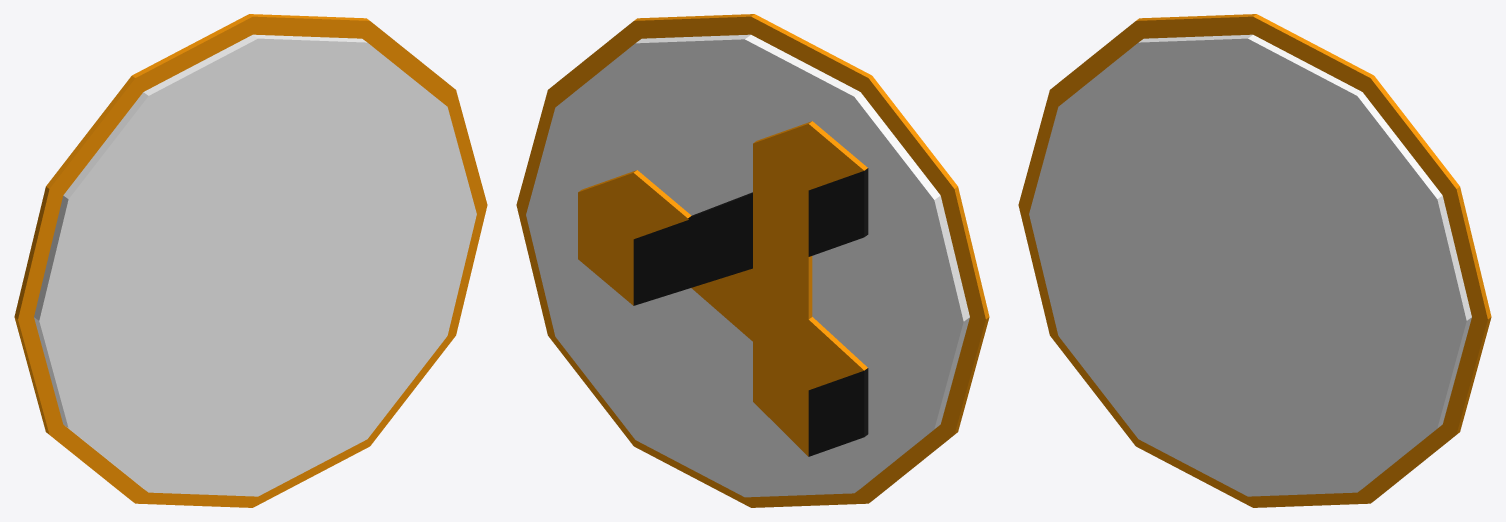
The model's file is ZEN.obj.
3 renders of one model, left to right at view 1: azimuth 30°, elevation 25°; view 2: azimuth 150°, elevation 25°; view 3: azimuth 330°, elevation 25°, orthographic.
Parts seen in each view (by area): view 1: group538133939, group270610225; view 2: group538133939, group270610225, group777321811, group1636007801, group1485929939, group965874814, group2086023532, group1651240096, group18262353, group1922530786, group1186561598; view 3: group538133939, group270610225.
Part boxes in pixels (x1,y1,x2,y2): group538133939: (34, 34, 476, 496); group270610225: (14, 14, 487, 507); group538133939: (526, 34, 969, 497); group270610225: (516, 14, 989, 507); group777321811: (633, 192, 752, 305); group1636007801: (691, 268, 867, 390); group1485929939: (753, 144, 812, 323); group965874814: (753, 121, 867, 190); group2086023532: (578, 170, 691, 239); group1651240096: (808, 368, 868, 456); group18262353: (808, 168, 868, 256); group1922530786: (578, 193, 633, 305); group1186561598: (753, 342, 808, 456); group538133939: (1029, 34, 1471, 496); group270610225: (1018, 14, 1491, 507).
Size of the model in its own units: 0.59 by 0.59 by 0.0416.
